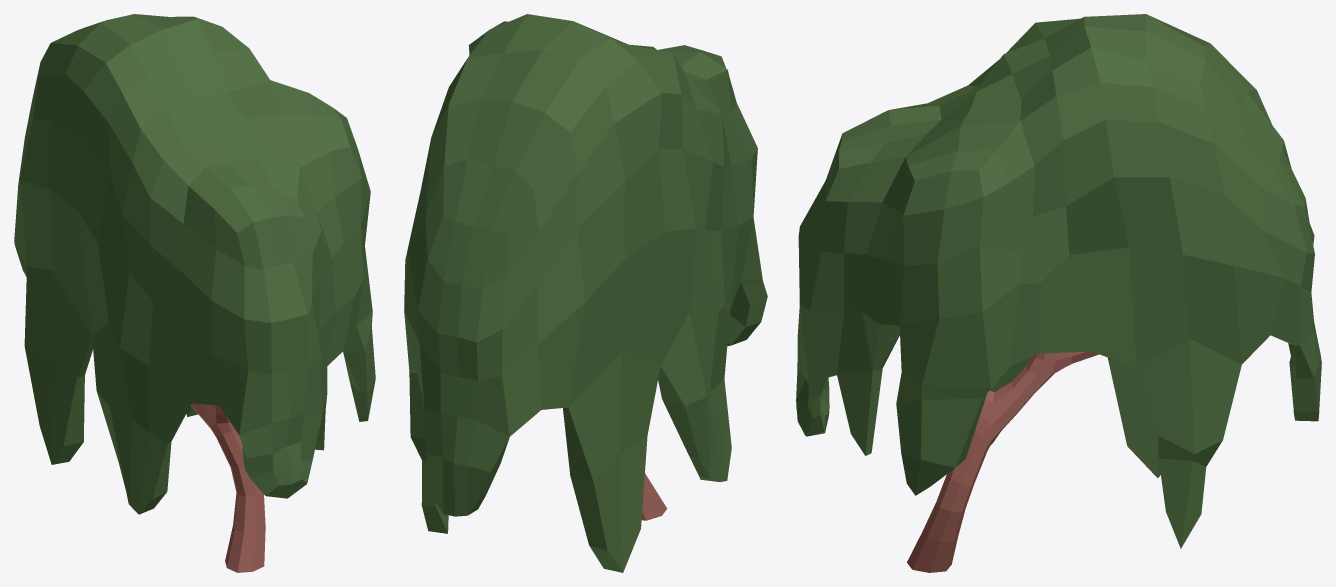
The model's file is Willow_1.glb.
3 renders of one model, left to right at view 1: azimuth 30°, elevation 25°; view 2: azimuth 150°, elevation 25°; view 3: azimuth 270°, elevation 25°, orthographic. The views are drawn at different scales.
Visible parts, largest first — view 1: Willow_1; view 2: Willow_1; view 3: Willow_1.
Boxes of the visible parts, bbox=[...] form: Willow_1: bbox=[14, 14, 375, 572]; Willow_1: bbox=[404, 14, 767, 572]; Willow_1: bbox=[796, 14, 1321, 572].
Bounding box in the file's own units: 145 × 285 × 255.
